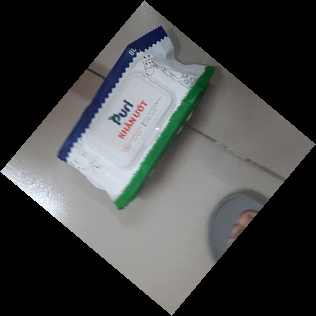Puri Trang: (55, 26, 216, 209)
